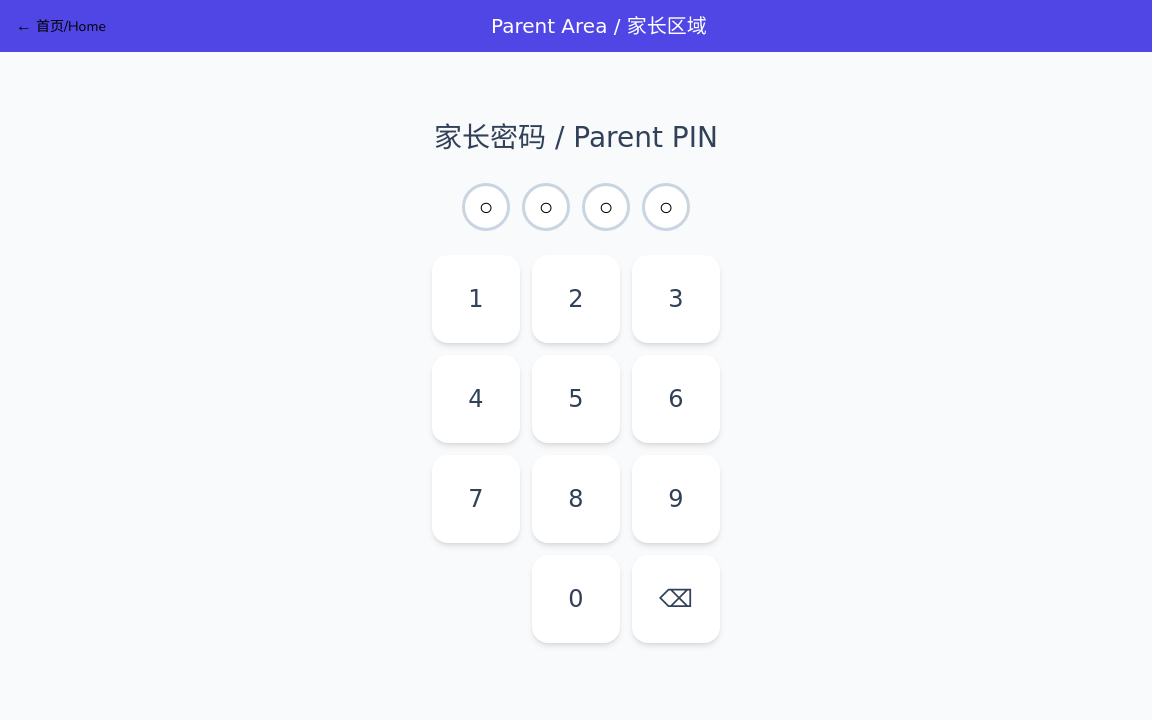
Scenario: ParentPage (PIN entry) › shows wrong PIN error message after incorrect entry
Click the button with test id "pin-key-1". click: (476, 299)
box: left=432, top=255, right=520, bottom=343
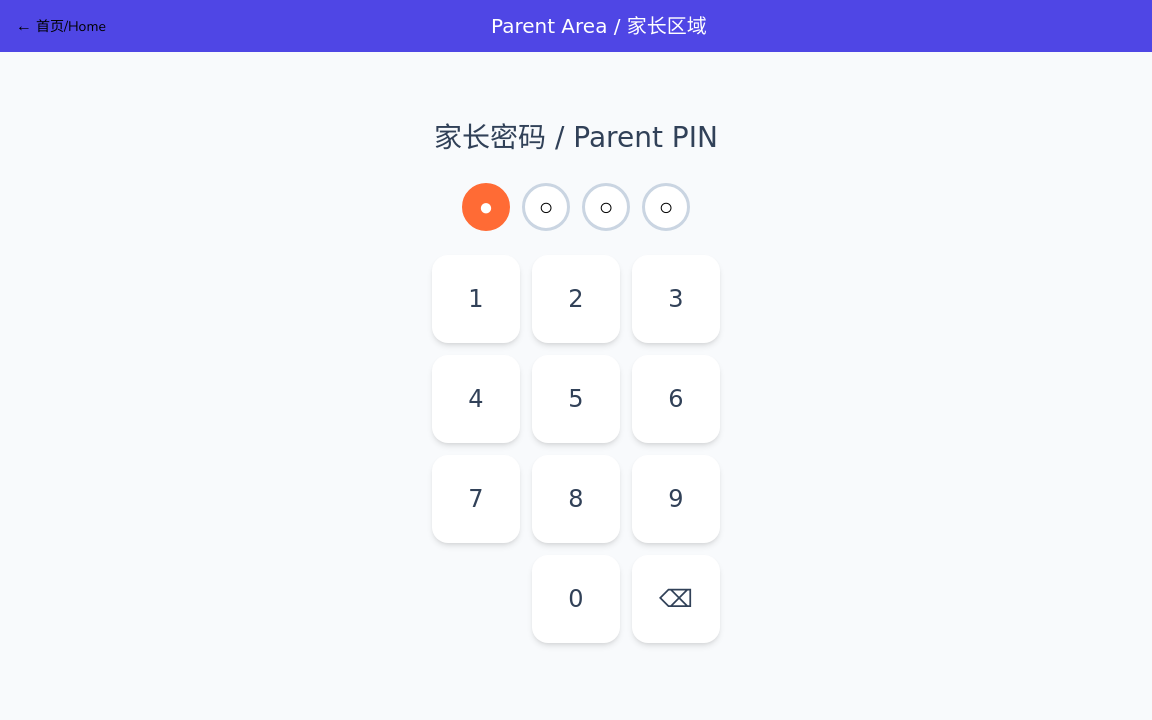
Click the button with test id "pin-key-2". click: (576, 299)
box: left=532, top=255, right=620, bottom=343
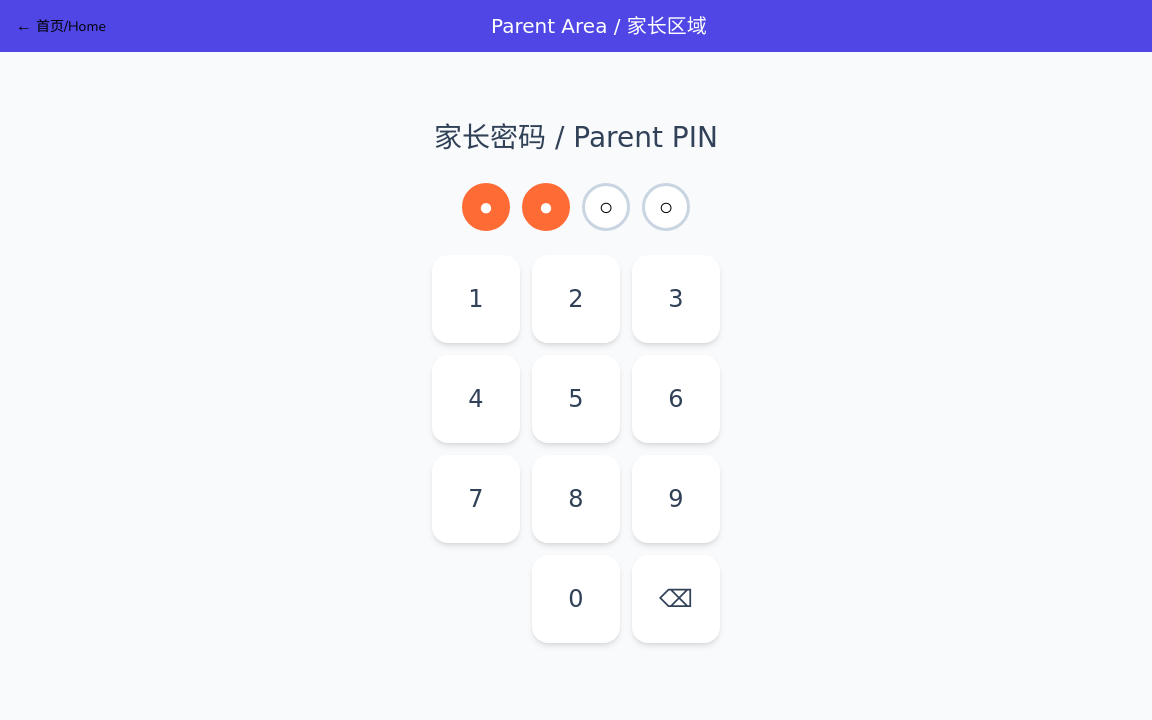
Click the button with test id "pin-key-3". click: (676, 299)
box: left=632, top=255, right=720, bottom=343
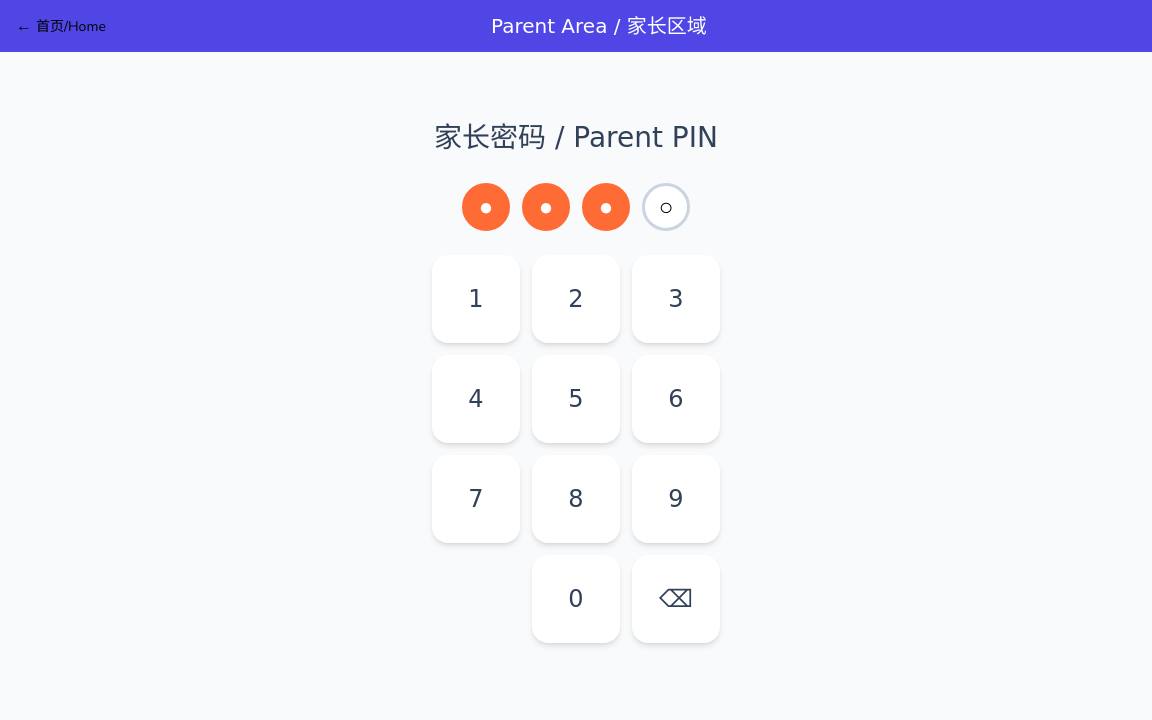
Click the button with test id "pin-key-4". click: (476, 399)
box: left=432, top=355, right=520, bottom=443
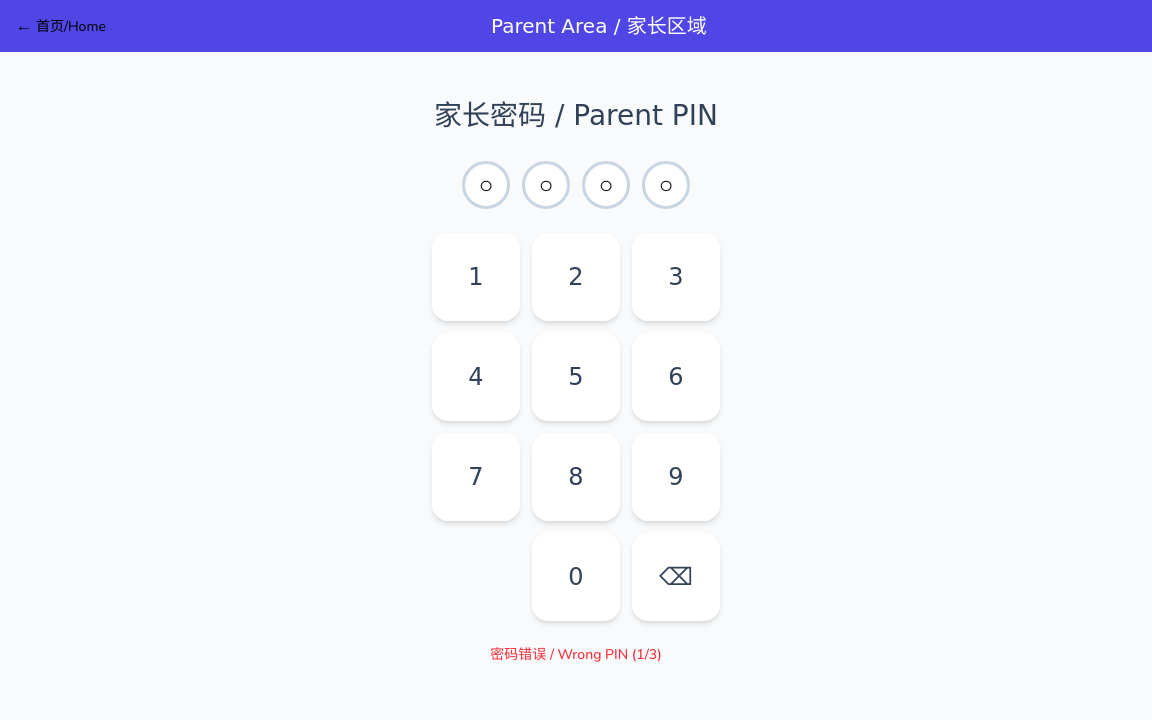
Expected: the text "密码错误 / Wrong PIN (1/3)" is shown, left=490, top=645, right=662, bottom=665
